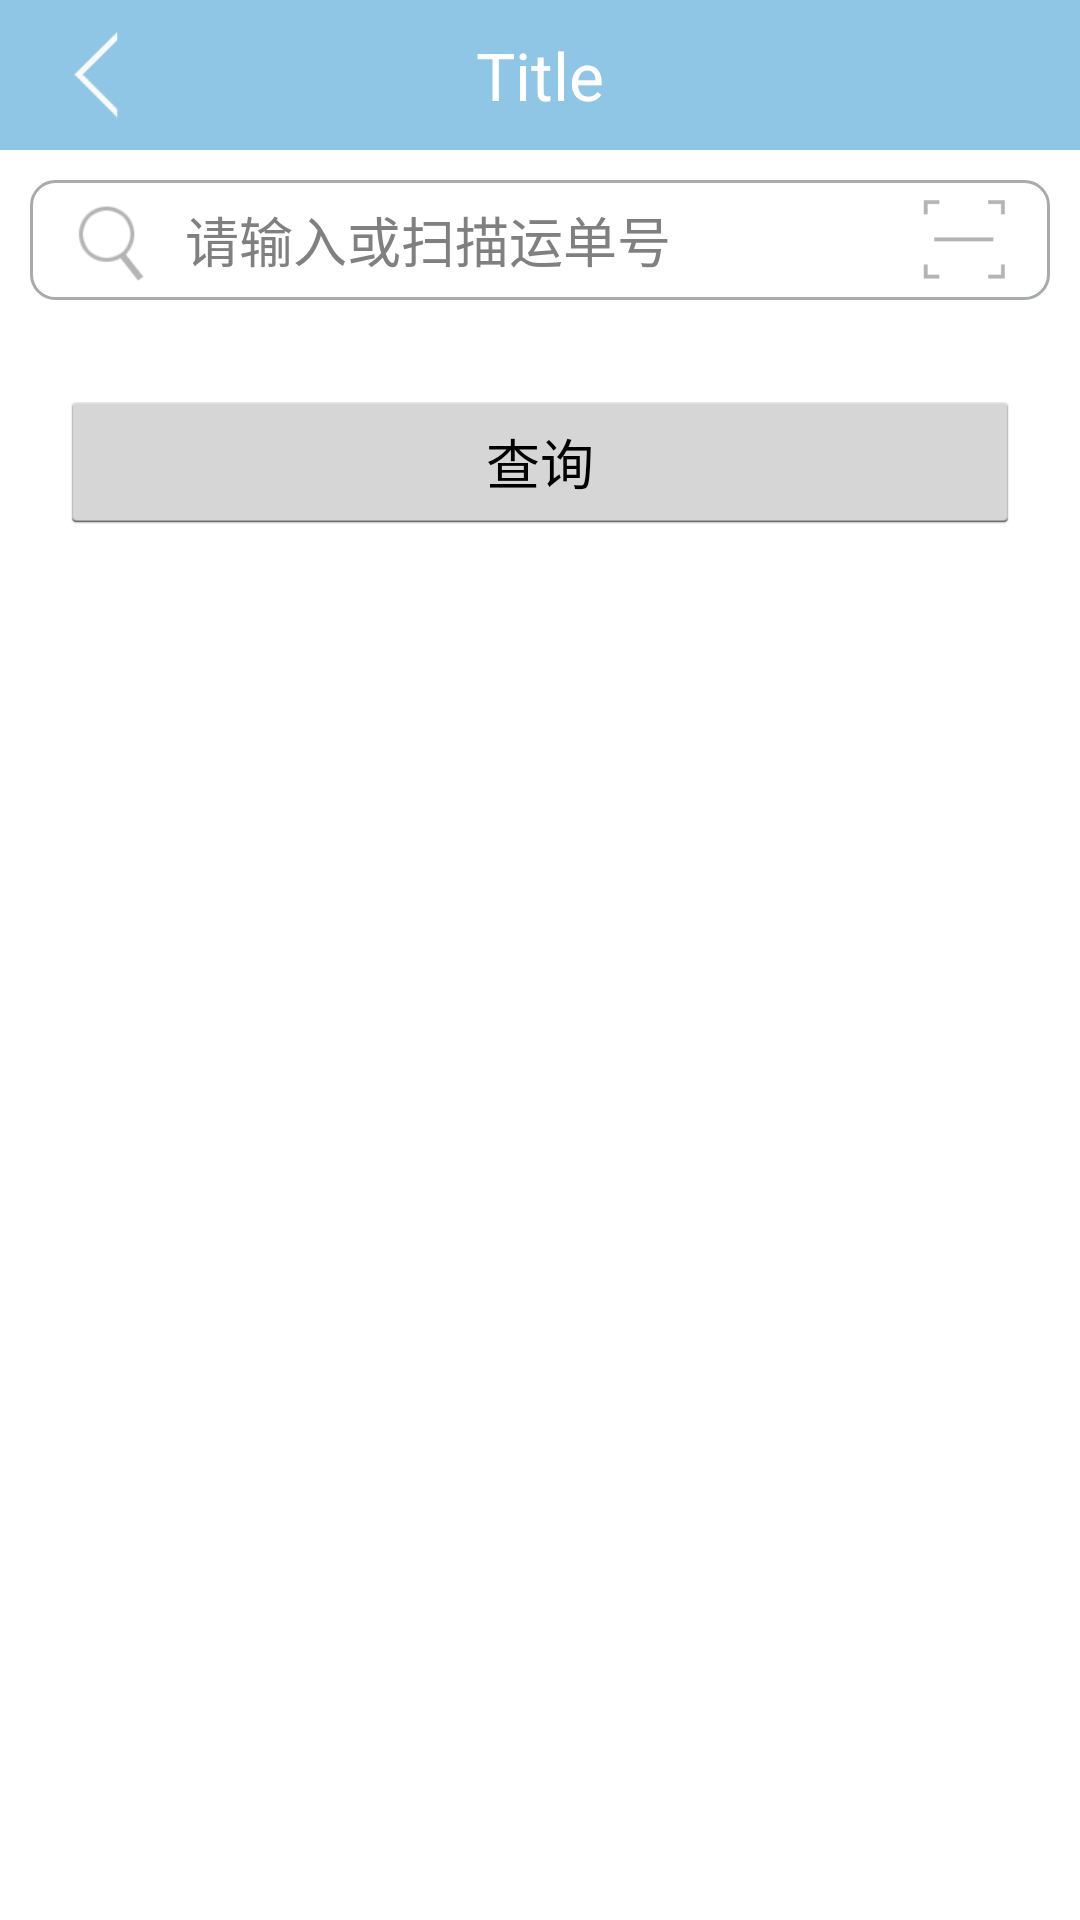

Where to tap for icons on this 1080×1920 app screen, as (x,y):
back: (96,75)
